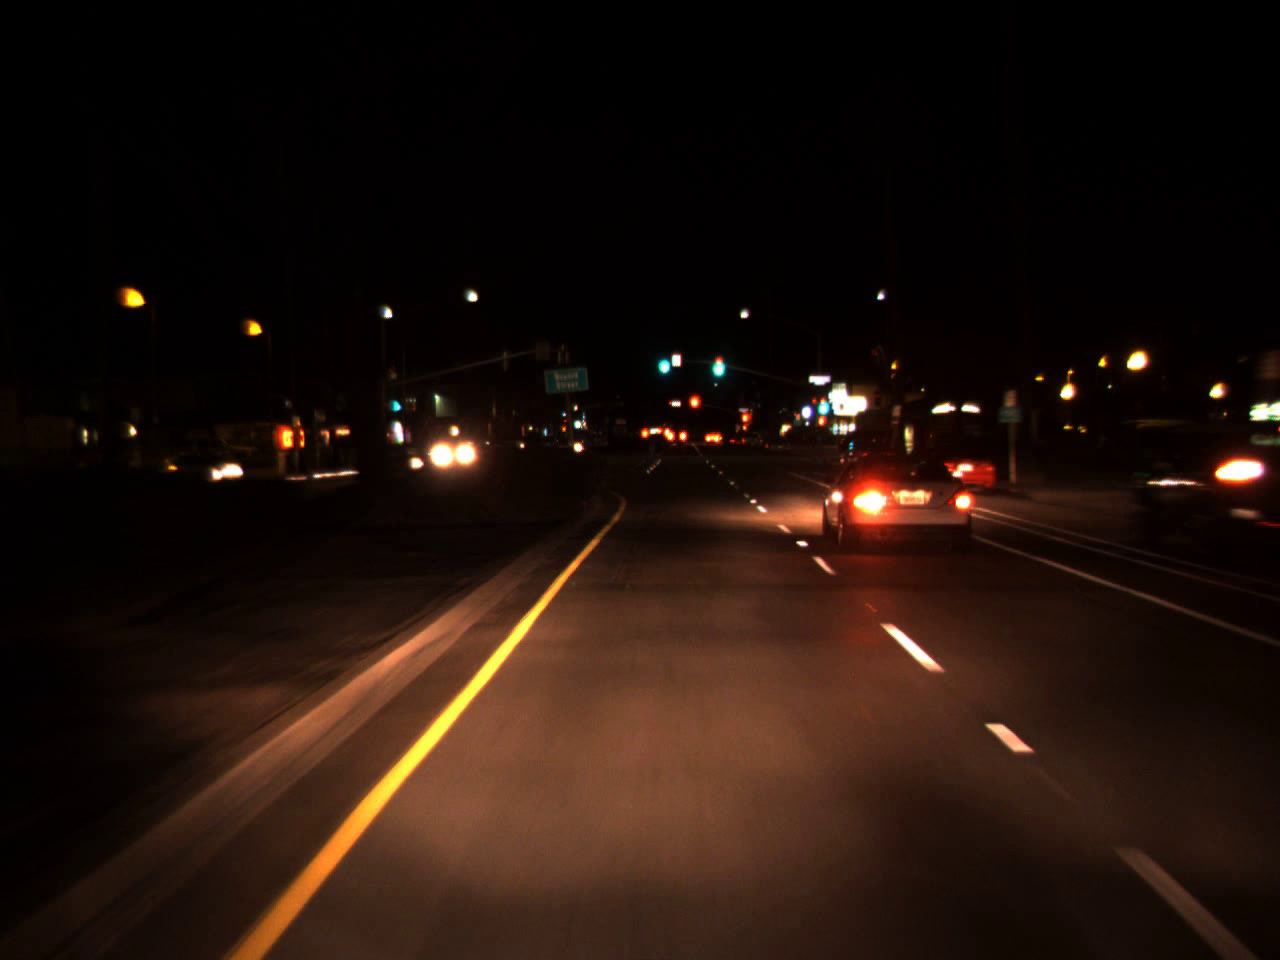go: (707, 349, 726, 379), (655, 346, 671, 376), (815, 390, 831, 417), (391, 390, 400, 414)
stop: (687, 393, 702, 425), (740, 409, 752, 436)
